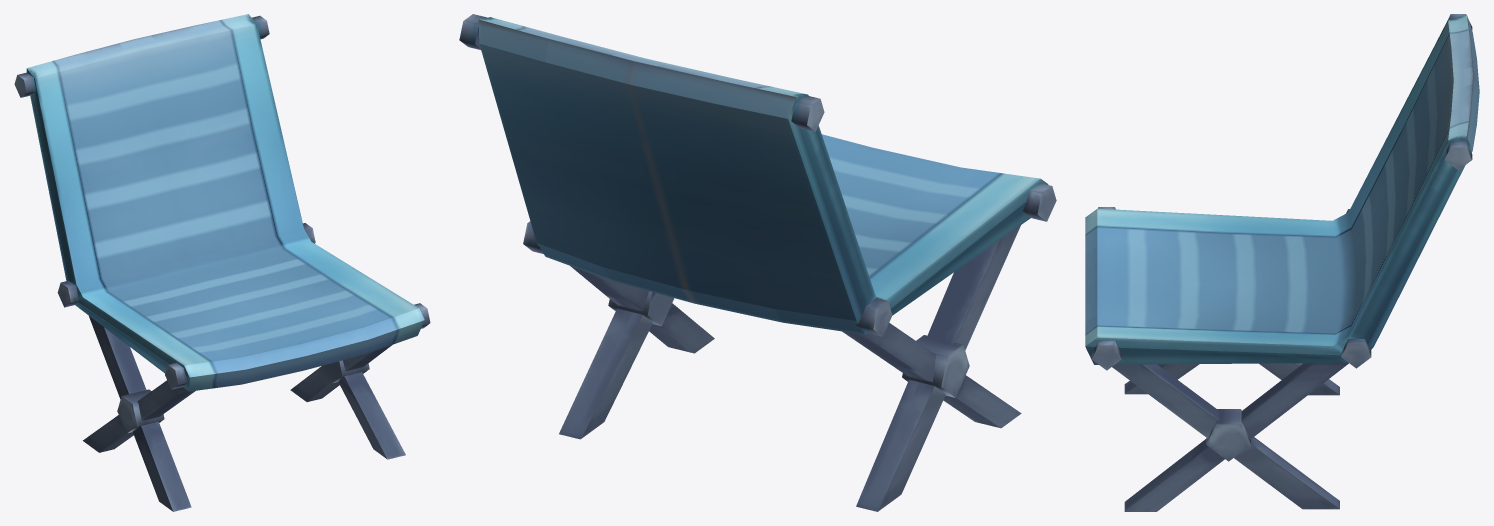
The picture shows the model from 3 angles, left to right: view 1: azimuth 30°, elevation 25°; view 2: azimuth 150°, elevation 25°; view 3: azimuth 270°, elevation 25°; orthographic projection. The views are drawn at different scales.
Parts seen in each view (by area): view 1: wq_wj003_01; view 2: wq_wj003_01; view 3: wq_wj003_01.
Part boxes in pixels (box(x1,y1,x2,y2)): wq_wj003_01: box(14, 14, 430, 511); wq_wj003_01: box(459, 14, 1056, 511); wq_wj003_01: box(1085, 14, 1479, 511).
Bounding box in the file's own units: 50.09 × 62.82 × 60.29.
Materials: 1 (1 with a texture image).
